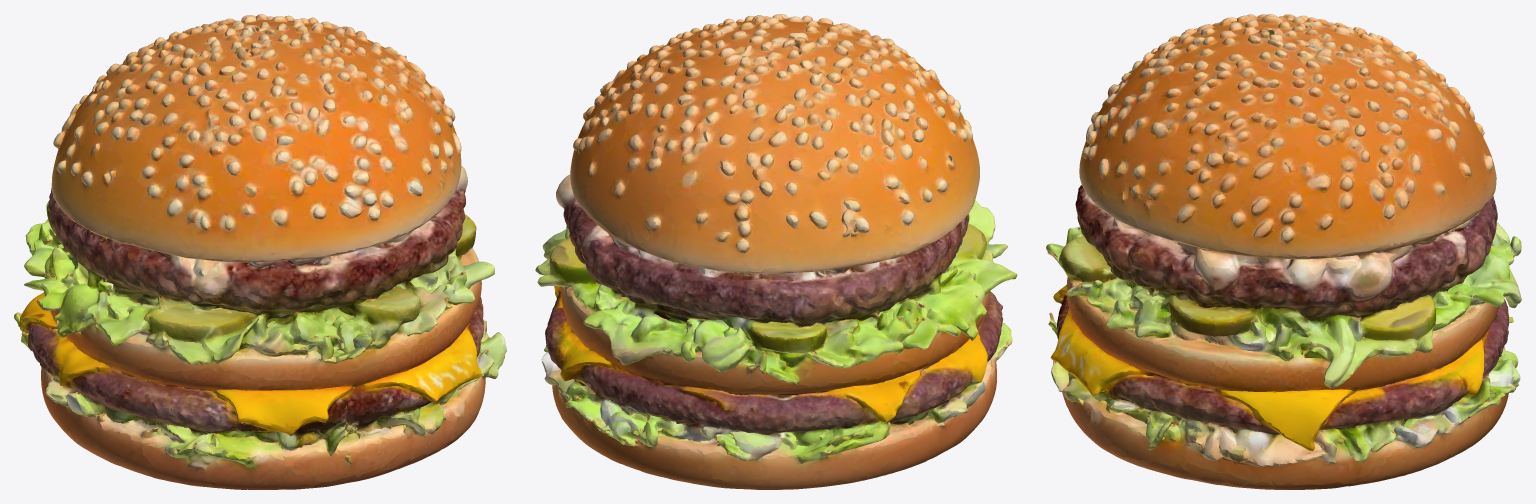
3 views of the same model, side by side, from view 1: azimuth 30°, elevation 25°; view 2: azimuth 150°, elevation 25°; view 3: azimuth 270°, elevation 25° (orthographic).
Parts seen in each view (by area): view 1: geometry_0; view 2: geometry_0; view 3: geometry_0.
Boxes of the visible parts, bbox=[...] form: geometry_0: bbox=[14, 14, 506, 489]; geometry_0: bbox=[535, 14, 1017, 489]; geometry_0: bbox=[1046, 14, 1521, 489].
Bounding box in the file's own units: 0.1504 × 0.125 × 0.1501.
Materials: 1 (1 with a texture image).
